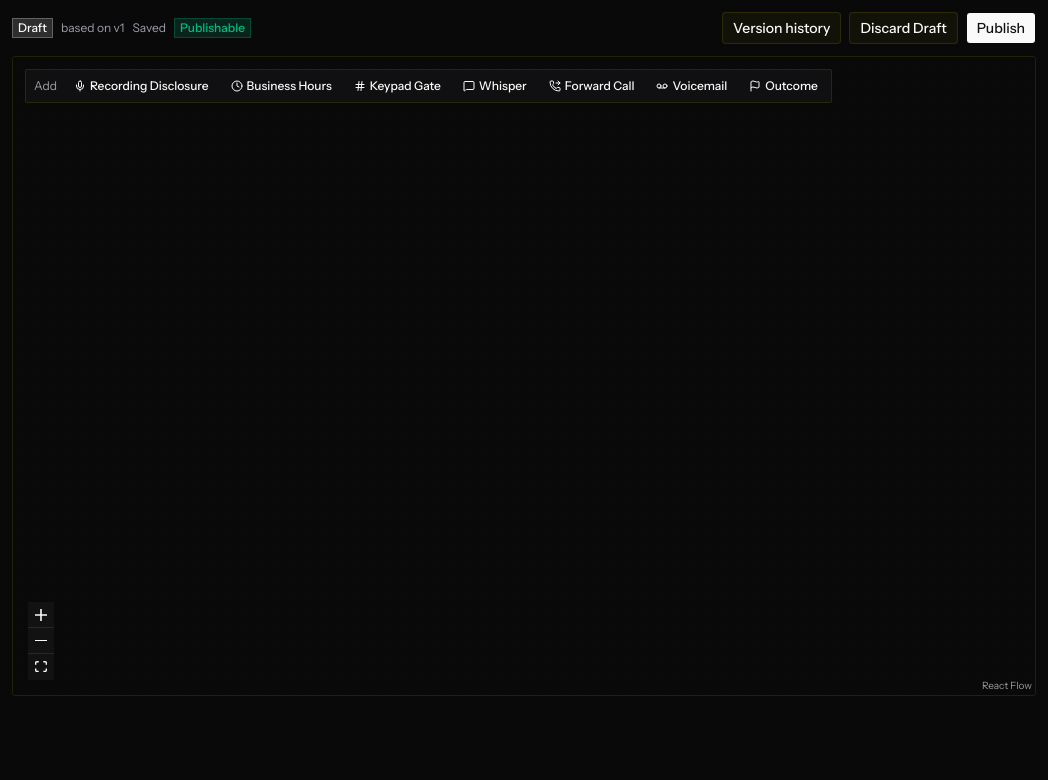
Test: WorkspaceFlowEditor › shows 422 publish issues and keeps editing
Click the button "Publish": point(1001, 28) [966, 12, 1036, 44]
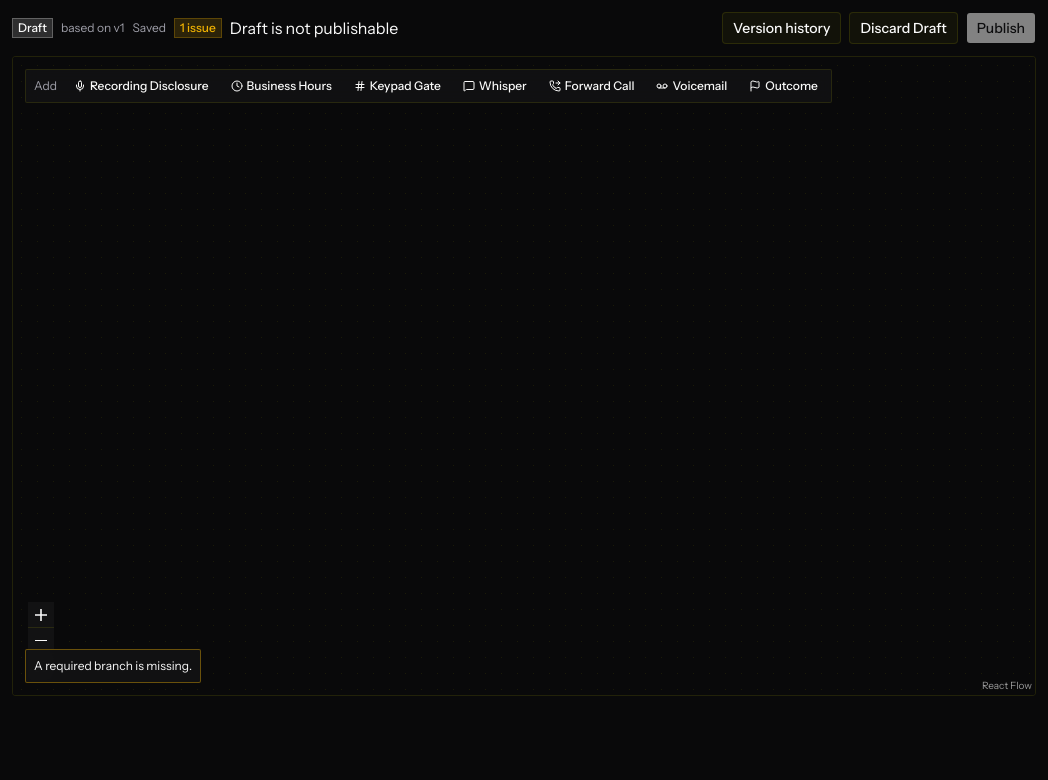
Check: the button "Discard Draft" is shown, box [849, 12, 958, 44]
Check: the button "A required branch is missing." is shown, box [34, 658, 192, 674]
